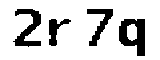2: (11, 7, 42, 48)
7: (84, 5, 115, 50)
q: (118, 17, 149, 59)
r: (46, 16, 74, 48)
